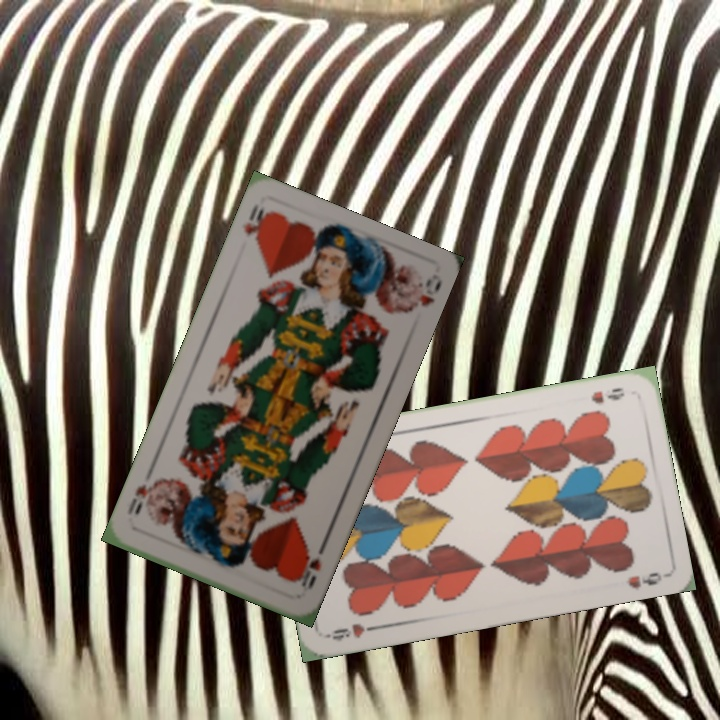H9: (323, 619, 382, 644), (587, 383, 627, 406)
HO: (292, 539, 329, 592), (239, 200, 274, 247)
